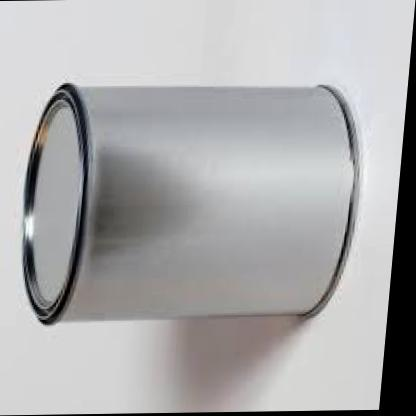Metal: (0, 43, 389, 362)
